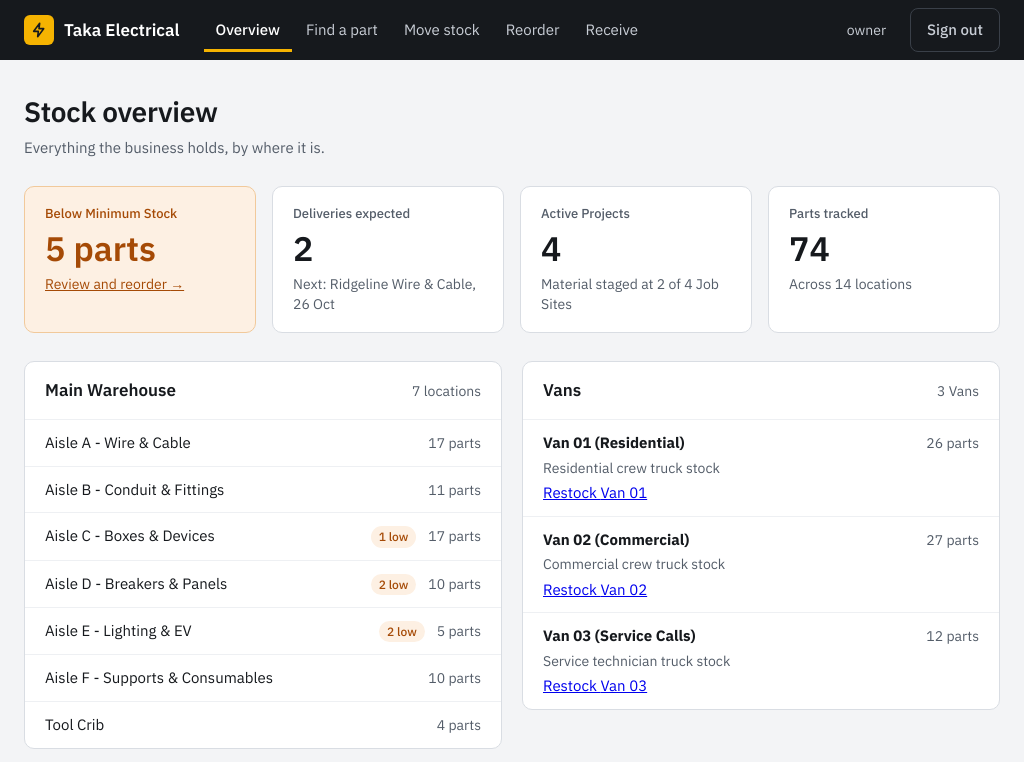
it: Reorder › names the lines that were not added, and the order they are missing from
This screenshot has width=1024, height=762.
Click the link "Reorder" at (533, 30), box [506,20,560,39]
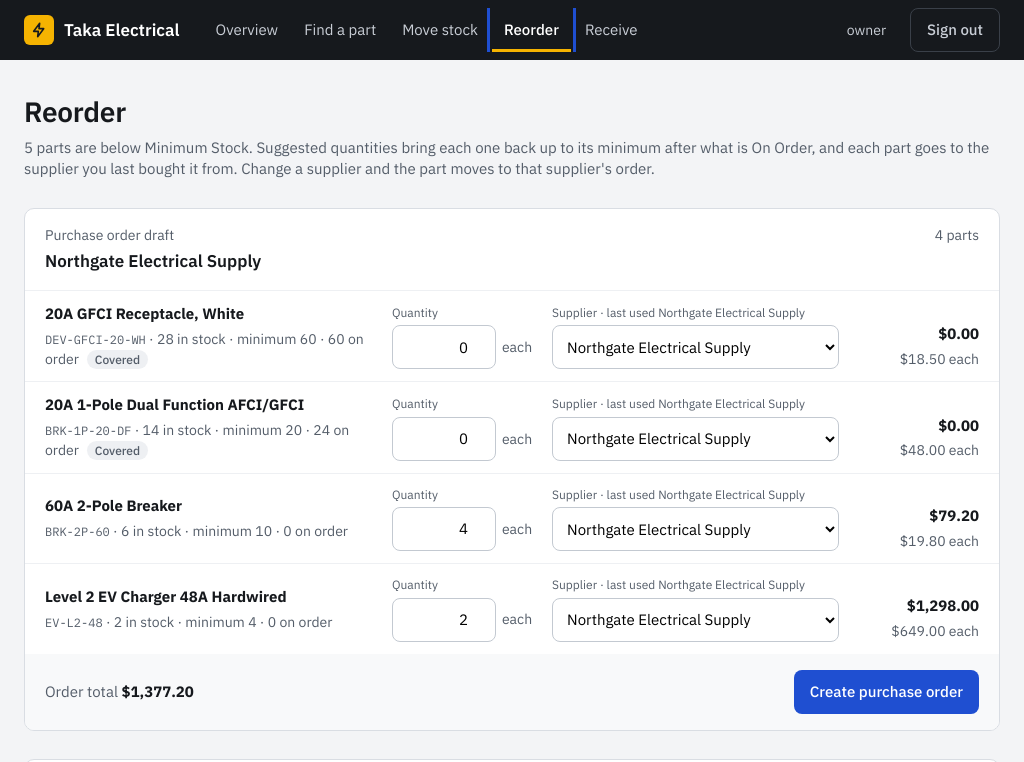
Click the button "Create purchase order" at (886, 692), box [794,670,979,714]
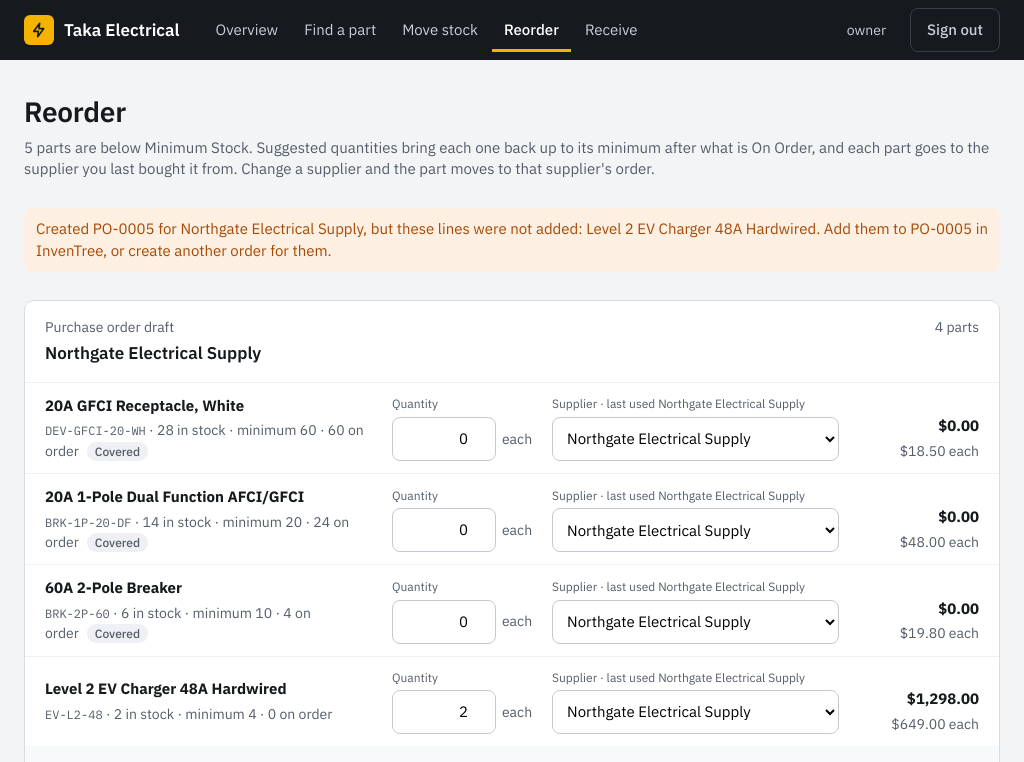
Result: the number field labelled "Quantity" in the row of "EV-L2-48" holds "2" at [392,690,496,734]
Result: the message shows "Created PO-0005 for Northgate Electrical Supply, but these lines were not added: Level 2 EV Charger 48A Hardwired. Add them to PO-0005 in InvenTree, or create a" at [36,219,988,260]
